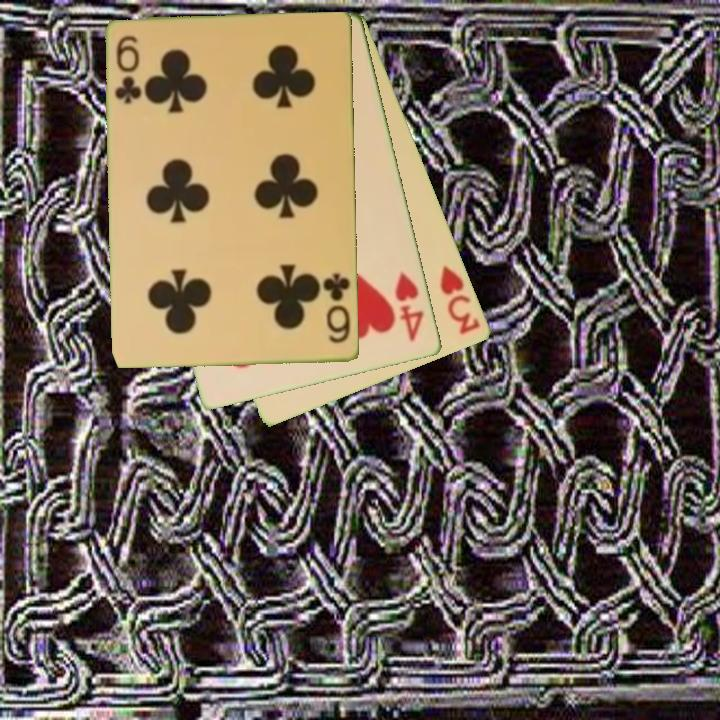3h: (437, 262, 483, 338)
4h: (392, 268, 427, 345)
6c: (320, 270, 353, 346), (112, 33, 144, 107)
